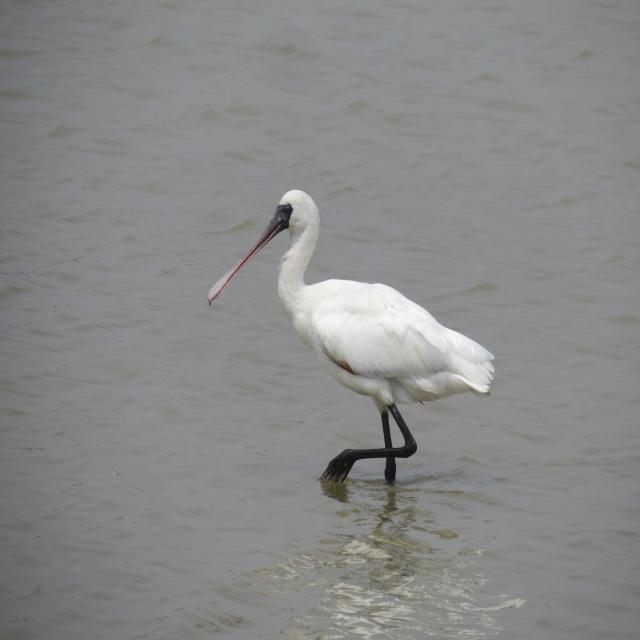Black-faced spoonbill: (208, 190, 494, 481)
